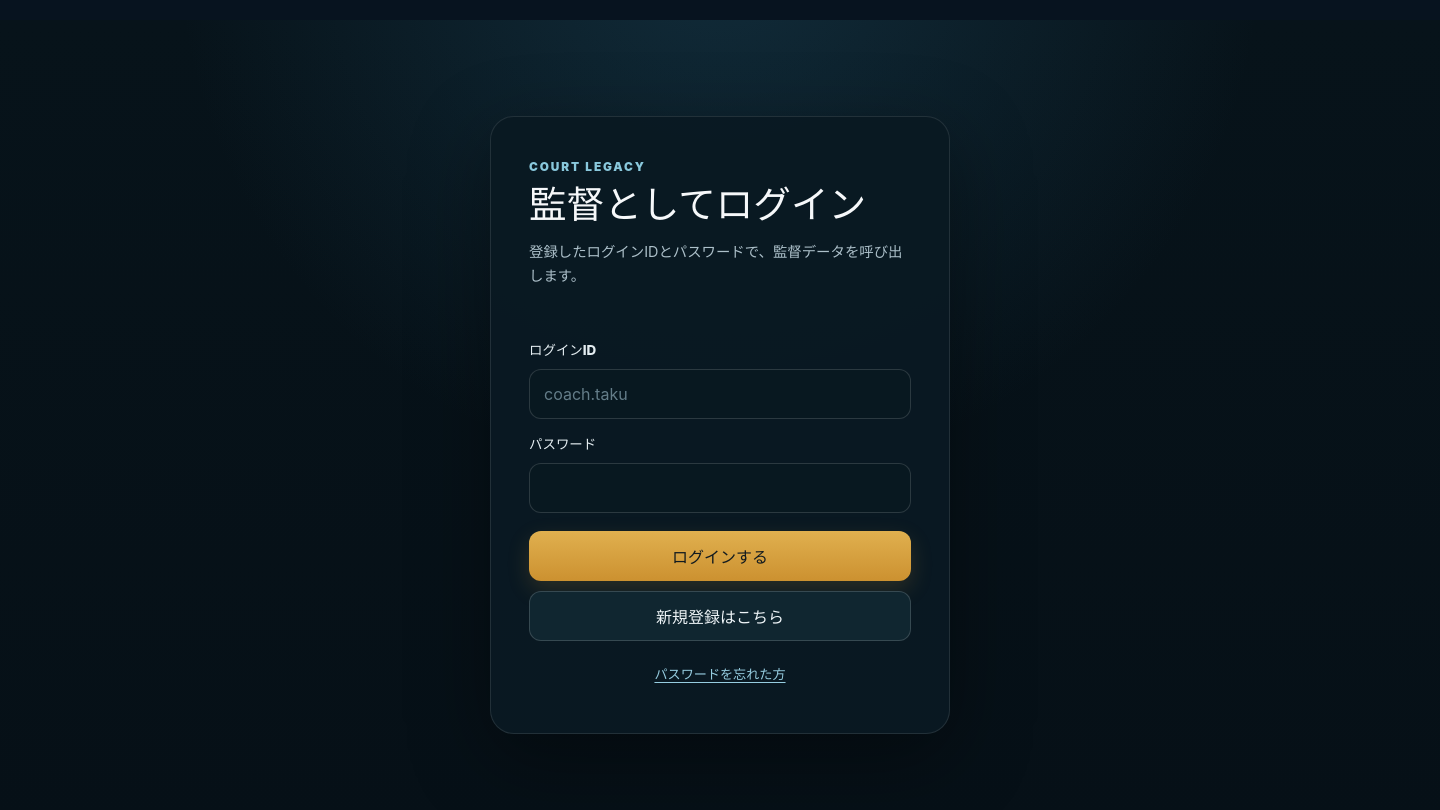
LoginScreen › shows all required account registration fields
This screenshot has width=1440, height=810.
Click the button "新規登録はこちら": (720, 616) [529, 591, 911, 641]
(page scrolled)
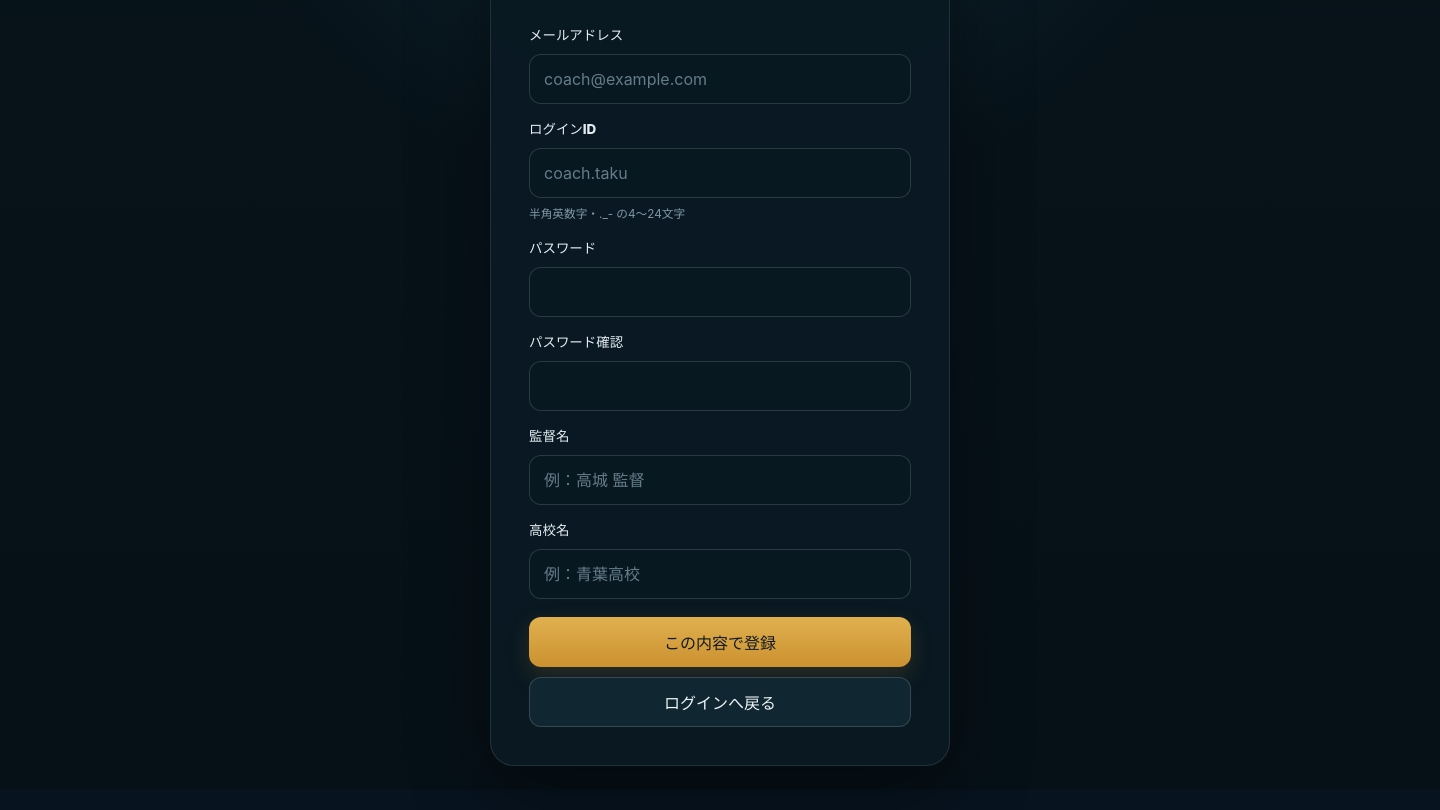
Now the field labelled "メールアドレス" is shown, box [529, 54, 911, 104]
Now the field labelled "ログインID" is shown, box [529, 148, 911, 198]
Now the password field labelled "パスワード" is shown, box [529, 267, 911, 317]
